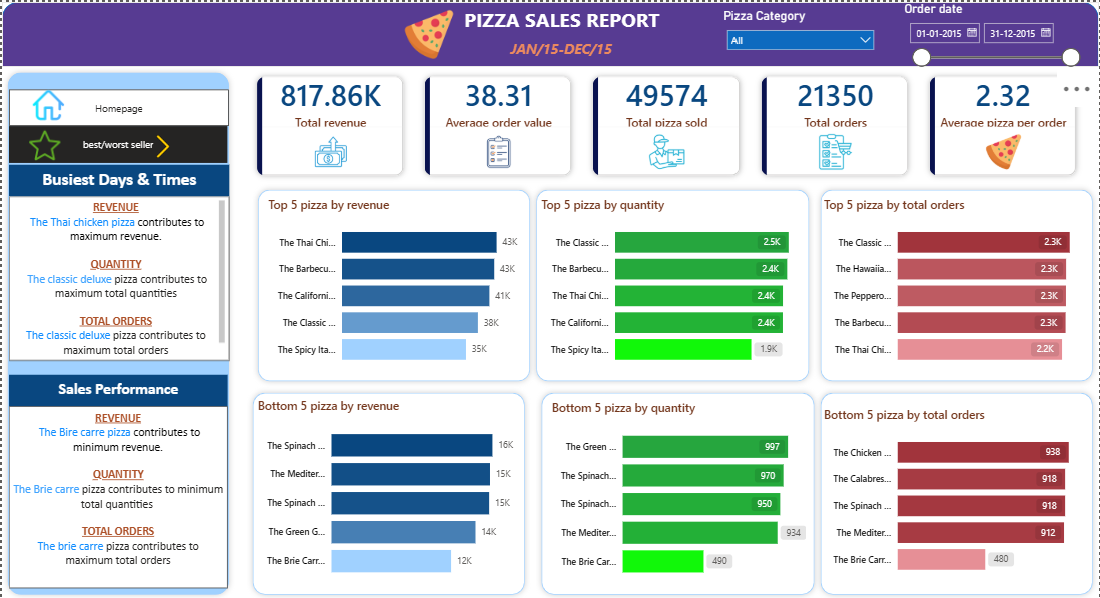

The page's visual inventory and layout, read from the dashboard file:
{"tool":"powerbi","page":{"name":"best/worst seller","canvas":[1500,820],"ordinal":1},"visuals":[{"type":"shape","box":[0,88.7,318.8,731],"z":0},{"type":"textbox","box":[9.6,222.9,302,43.1],"z":1000},{"type":"cardVisual","fields":{"Data":["pizza pizza_sales.Total revenue","pizza pizza_sales.Average order value","pizza pizza_sales.total_pizza_sold","pizza pizza_sales.Total orders","pizza pizza_sales.Average pizza per order"]},"box":[321.2,74.3,1179.2,191.7],"z":2000},{"type":"shape","box":[0,0,1500.3,88.7],"z":3000},{"type":"textbox","box":[551.2,0,431.4,69.5],"z":4000},{"type":"textbox","box":[673.5,45.5,184.5,45.5],"z":5000},{"type":"image","box":[529.7,9.6,110.2,69.5],"z":6000},{"type":"shape","box":[342.7,249.3,388.3,278],"z":7000},{"type":"textbox","box":[9.6,266,302,225.3],"z":16000},{"type":"textbox","box":[9.6,510.5,299.6,43.1],"z":17000},{"type":"textbox","box":[9.6,553.6,299.6,249.3],"z":18000},{"type":"slicer","title":"Pizza Category","fields":{"Values":["pizza pizza_sales.pizza_category"]},"box":[982.6,9.6,220.5,69.5],"z":20000},{"type":"slicer","title":"Order date","fields":{"Values":["pizza pizza_sales.order_date"]},"box":[1229.5,0,254,91.1],"z":21000},{"type":"shape","box":[1112.1,249.3,388.3,278],"z":21001},{"type":"shape","box":[731,527.3,388.3,292.4],"z":21002},{"type":"shape","box":[723.8,249.3,388.3,278],"z":21003},{"type":"shape","box":[335.5,527.3,388.3,292.4],"z":21004},{"type":"shape","box":[1112.1,527.3,388.3,292.4],"z":21005},{"type":"barChart","title":"Top 5 pizza by revenue","fields":{"Category":["pizza pizza_sales.pizza_name"],"Y":["pizza pizza_sales.Total revenue"]},"box":[359.5,266,371.5,244.5],"z":21006},{"type":"barChart","title":"Bottom 5 pizza by revenue","fields":{"Category":["pizza pizza_sales.pizza_name"],"Y":["pizza pizza_sales.Total revenue"]},"box":[345.1,541.6,371.5,261.2],"z":21007},{"type":"barChart","title":"Top 5 pizza by quantity","fields":{"Category":["pizza pizza_sales.pizza_name"],"Y":["Sum(pizza pizza_sales.quantity)"]},"box":[733.4,266,371.5,244.5],"z":21008},{"type":"barChart","title":"Bottom 5 pizza by quantity","fields":{"Category":["pizza pizza_sales.pizza_name"],"Y":["Sum(pizza pizza_sales.quantity)"]},"box":[747.8,544,357.1,258.8],"z":21009},{"type":"barChart","title":"Top 5 pizza by total orders","fields":{"Category":["pizza pizza_sales.pizza_name"],"Y":["pizza pizza_sales.Total orders"]},"box":[1119.2,266,371.5,244.5],"z":21010},{"type":"barChart","title":"Bottom 5 pizza by total orders","fields":{"Category":["pizza pizza_sales.pizza_name"],"Y":["pizza pizza_sales.Total orders"]},"box":[1119.2,553.6,371.5,244.5],"z":21011},{"type":"pageNavigator","box":[9.6,119.8,302,50.3],"z":21012},{"type":"pageNavigator","box":[9.6,170.2,299.6,50.3],"z":21013},{"type":"image","box":[189.3,182.1,62.3,31.2],"z":21014},{"type":"image","box":[9.6,119.8,107.9,43.1],"z":21015},{"type":"image","box":[0,175,117.4,43.1],"z":21016}]}

Visuals, with their boxes in screenshot pixels (x1, y1, x2, y2), scaled from the page's 1500x820 canvas onto the 1100x598 screenshot:
shape: {"left": 0, "top": 65, "right": 234, "bottom": 597}
textbox: {"left": 7, "top": 163, "right": 229, "bottom": 194}
cardVisual - pizza pizza_sales.Total revenue x pizza pizza_sales.Average order value: {"left": 236, "top": 54, "right": 1099, "bottom": 194}
shape: {"left": 0, "top": 0, "right": 1099, "bottom": 65}
textbox: {"left": 404, "top": 0, "right": 721, "bottom": 51}
textbox: {"left": 494, "top": 33, "right": 629, "bottom": 66}
image: {"left": 388, "top": 7, "right": 469, "bottom": 58}
shape: {"left": 251, "top": 182, "right": 536, "bottom": 385}
textbox: {"left": 7, "top": 194, "right": 229, "bottom": 358}
textbox: {"left": 7, "top": 372, "right": 227, "bottom": 404}
textbox: {"left": 7, "top": 404, "right": 227, "bottom": 586}
"Pizza Category" slicer: {"left": 721, "top": 7, "right": 882, "bottom": 58}
"Order date" slicer: {"left": 902, "top": 0, "right": 1088, "bottom": 66}
shape: {"left": 816, "top": 182, "right": 1099, "bottom": 385}
shape: {"left": 536, "top": 385, "right": 821, "bottom": 597}
shape: {"left": 531, "top": 182, "right": 816, "bottom": 385}
shape: {"left": 246, "top": 385, "right": 531, "bottom": 597}
shape: {"left": 816, "top": 385, "right": 1099, "bottom": 597}
"Top 5 pizza by revenue" barChart: {"left": 264, "top": 194, "right": 536, "bottom": 372}
"Bottom 5 pizza by revenue" barChart: {"left": 253, "top": 395, "right": 526, "bottom": 585}
"Top 5 pizza by quantity" barChart: {"left": 538, "top": 194, "right": 810, "bottom": 372}
"Bottom 5 pizza by quantity" barChart: {"left": 548, "top": 397, "right": 810, "bottom": 585}
"Top 5 pizza by total orders" barChart: {"left": 821, "top": 194, "right": 1093, "bottom": 372}
"Bottom 5 pizza by total orders" barChart: {"left": 821, "top": 404, "right": 1093, "bottom": 582}
pageNavigator: {"left": 7, "top": 87, "right": 229, "bottom": 124}
pageNavigator: {"left": 7, "top": 124, "right": 227, "bottom": 161}
image: {"left": 139, "top": 133, "right": 185, "bottom": 156}
image: {"left": 7, "top": 87, "right": 86, "bottom": 119}
image: {"left": 0, "top": 128, "right": 86, "bottom": 159}
